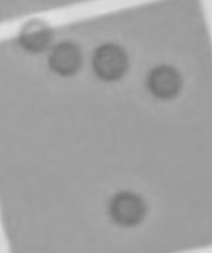cell: (142, 59, 186, 103), (104, 188, 150, 229), (88, 41, 131, 84), (44, 37, 84, 80), (15, 14, 55, 55)
